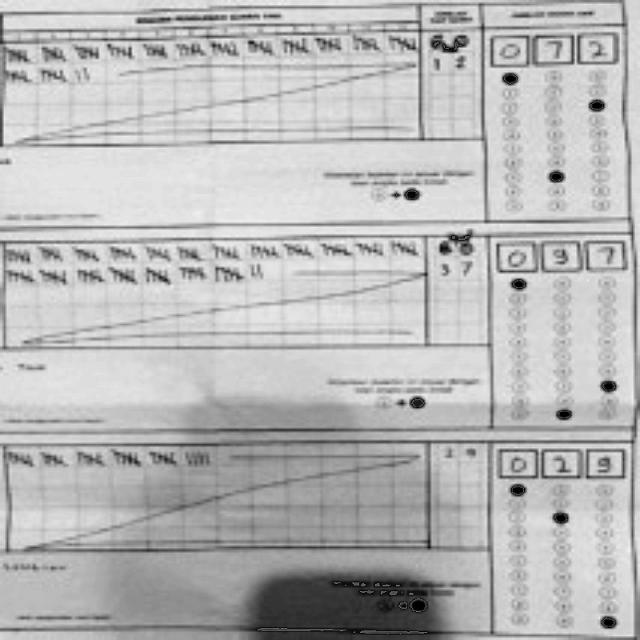Suara: (492, 236, 630, 276), (492, 442, 630, 482), (486, 29, 622, 69)
